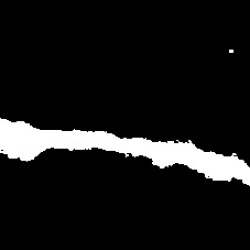crack: (3, 117, 249, 186)
pinhole: (229, 48, 235, 54)
